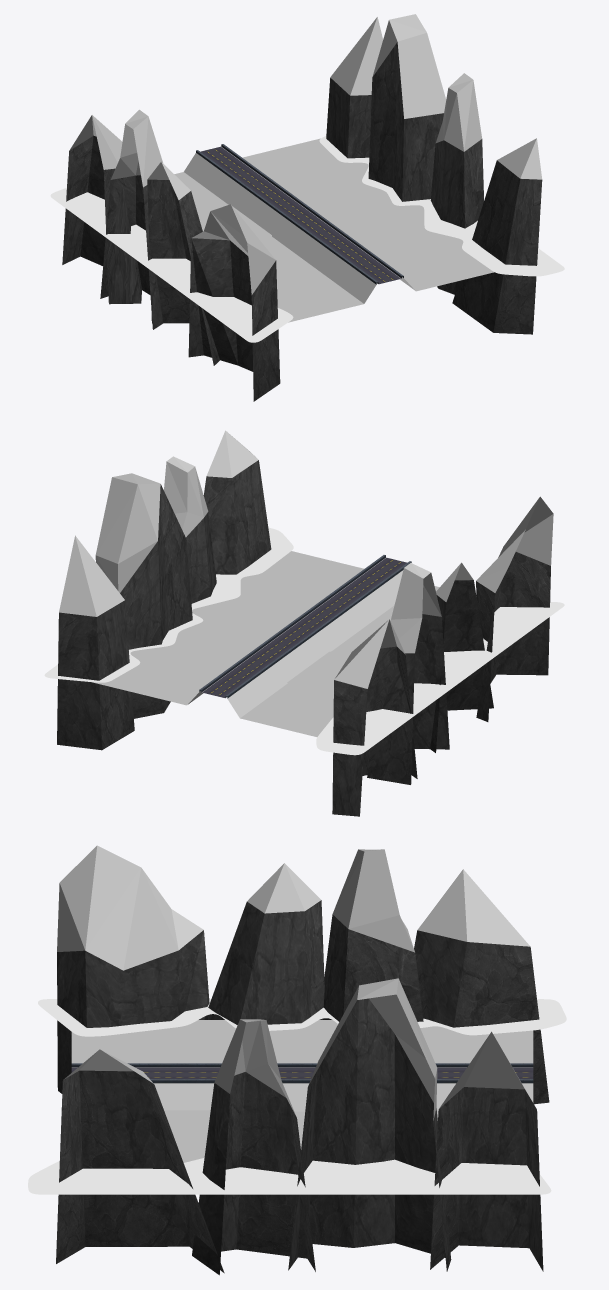
Rendered from citywinter_12.fbx.
3 renders of one model, top to bottom at view 1: azimuth 30°, elevation 25°; view 2: azimuth 150°, elevation 25°; view 3: azimuth 270°, elevation 25°, orthographic. The views are drawn at different scales.
Visible parts, largest first — view 1: City_12; view 2: City_12; view 3: City_12.
Boxes of the visible parts, x1=… form: City_12: x1=50, y1=14, x2=564, y2=401; City_12: x1=44, y1=430, x2=564, y2=816; City_12: x1=28, y1=845, x2=566, y2=1275.
Size of the model in its own units: 22617 by 13384 by 25170.
